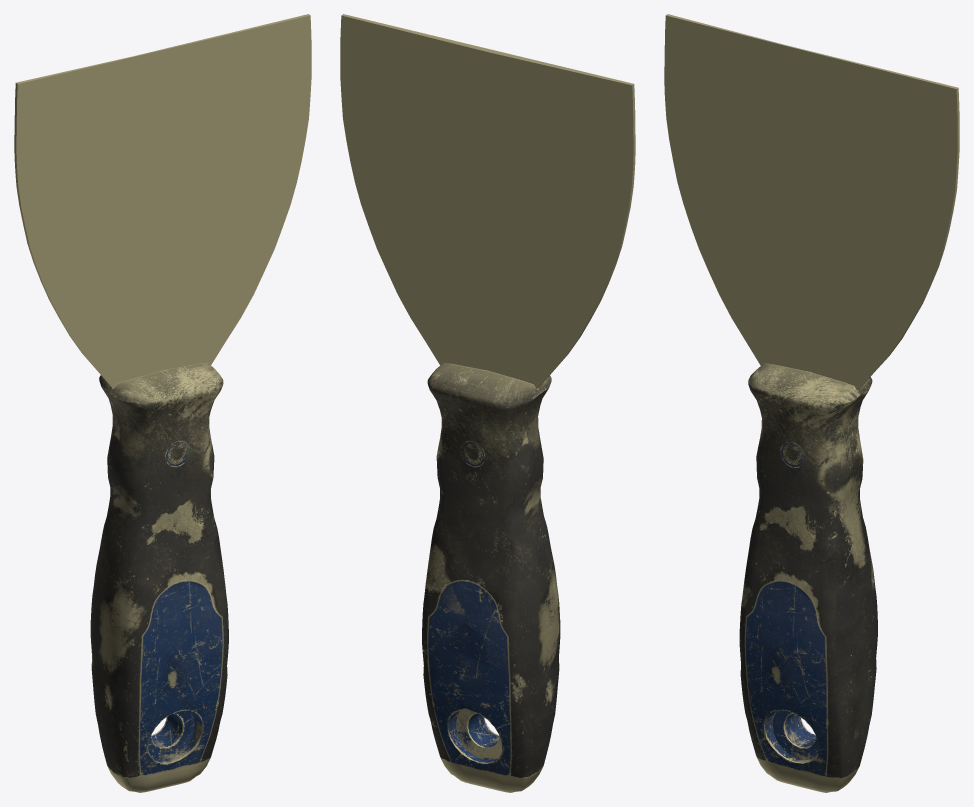
File: plaster_spatula.obj
3 renders of one model, left to right at view 1: azimuth 30°, elevation 25°; view 2: azimuth 150°, elevation 25°; view 3: azimuth 330°, elevation 25°, orthographic.
Visible parts, largest first — view 1: Handle_Low_meshId2_name; view 2: Handle_Low_meshId2_name; view 3: Handle_Low_meshId2_name.
Part boxes in pixels (x1=…): Handle_Low_meshId2_name: x1=14, y1=14, x2=311, y2=792; Handle_Low_meshId2_name: x1=340, y1=14, x2=635, y2=792; Handle_Low_meshId2_name: x1=664, y1=14, x2=959, y2=792.
Bounding box in the file's own units: 0.0946 × 0.225 × 0.0266.
Materials: 1 (1 with a texture image).
